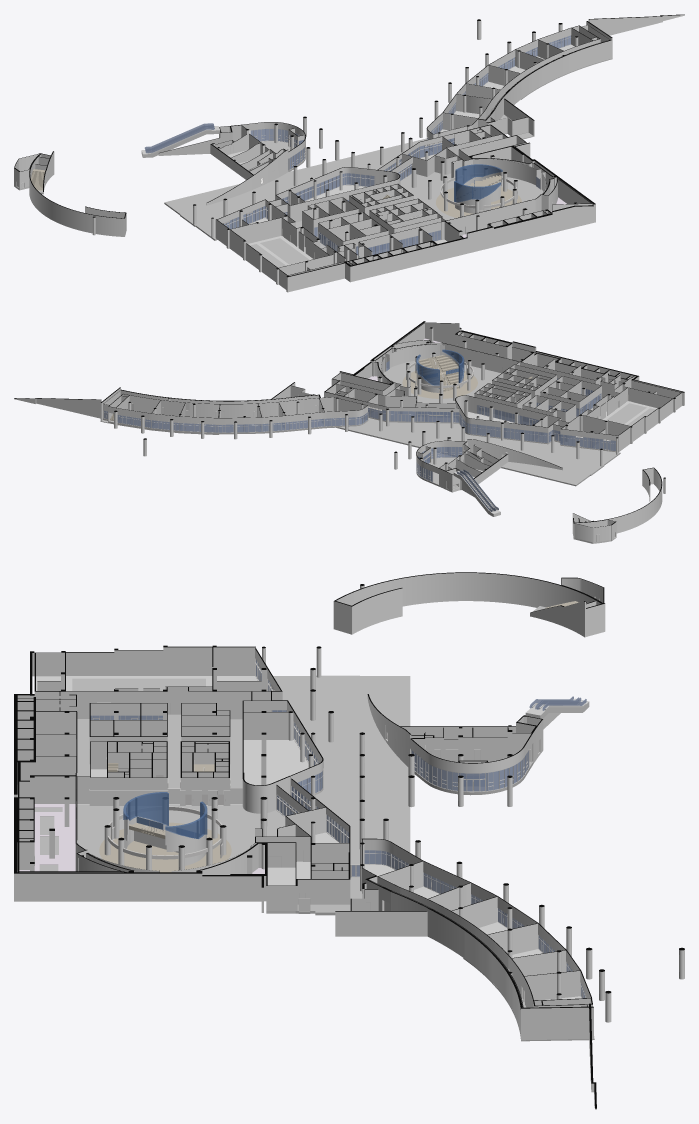
The picture shows the model from 3 angles, top to bottom: view 1: azimuth 30°, elevation 25°; view 2: azimuth 150°, elevation 25°; view 3: azimuth 270°, elevation 25°; orthographic projection. The views are drawn at different scales.
Parts seen in each view (by area): view 1: A4-B1F_in_벽, A4-B1F_in_바닥, A4-B1F_in_유리, A4-B1F_in_프레임, A4-B1F_in_에스컬레이트, A4-B1F_in_계단; view 2: A4-B1F_in_벽, A4-B1F_in_바닥, A4-B1F_in_유리, A4-B1F_in_프레임, A4-B1F_in_계단, A4-B1F_in_유리문, A4-B1F_in_에스컬레이트, A4-B1F_in_문; view 3: A4-B1F_in_벽, A4-B1F_in_바닥, A4-B1F_in_유리, A4-B1F_in_프레임, A4-B1F_in_문, A4-B1F_in_에스컬레이트, A4-B1F_in_유리문.
Boxes of the visible parts, <box> form: A4-B1F_in_벽: <box>14,14,684,292</box>; A4-B1F_in_바닥: <box>20,44,612,267</box>; A4-B1F_in_유리: <box>224,35,570,255</box>; A4-B1F_in_프레임: <box>223,36,570,253</box>; A4-B1F_in_에스컬레이트: <box>141,123,219,157</box>; A4-B1F_in_계단: <box>31,169,501,201</box>; A4-B1F_in_벽: <box>14,321,684,542</box>; A4-B1F_in_바닥: <box>100,338,657,543</box>; A4-B1F_in_유리: <box>104,349,615,481</box>; A4-B1F_in_프레임: <box>103,359,618,482</box>; A4-B1F_in_계단: <box>110,355,532,420</box>; A4-B1F_in_유리문: <box>104,361,610,463</box>; A4-B1F_in_에스컬레이트: <box>453,469,500,516</box>; A4-B1F_in_문: <box>131,344,631,542</box>; A4-B1F_in_벽: <box>14,572,684,1109</box>; A4-B1F_in_바닥: <box>17,606,594,1041</box>; A4-B1F_in_유리: <box>90,660,585,998</box>; A4-B1F_in_프레임: <box>89,658,586,998</box>; A4-B1F_in_문: <box>34,597,599,1002</box>; A4-B1F_in_에스컬레이트: <box>525,696,589,718</box>; A4-B1F_in_유리문: <box>93,670,582,998</box>.
Size of the model in its own units: 207 by 8.72 by 115.
